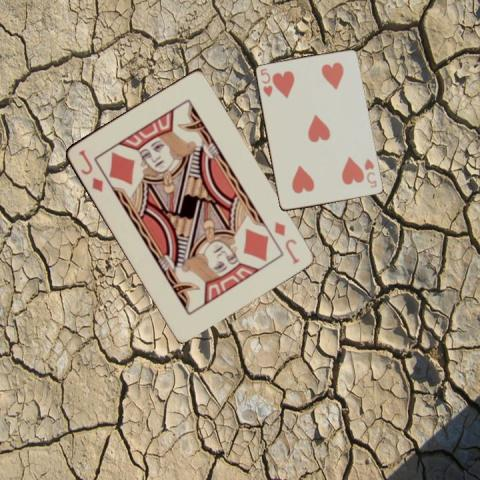5h: (361, 156, 379, 190), (258, 65, 274, 99)
Jd: (74, 146, 104, 193), (271, 219, 300, 266)
